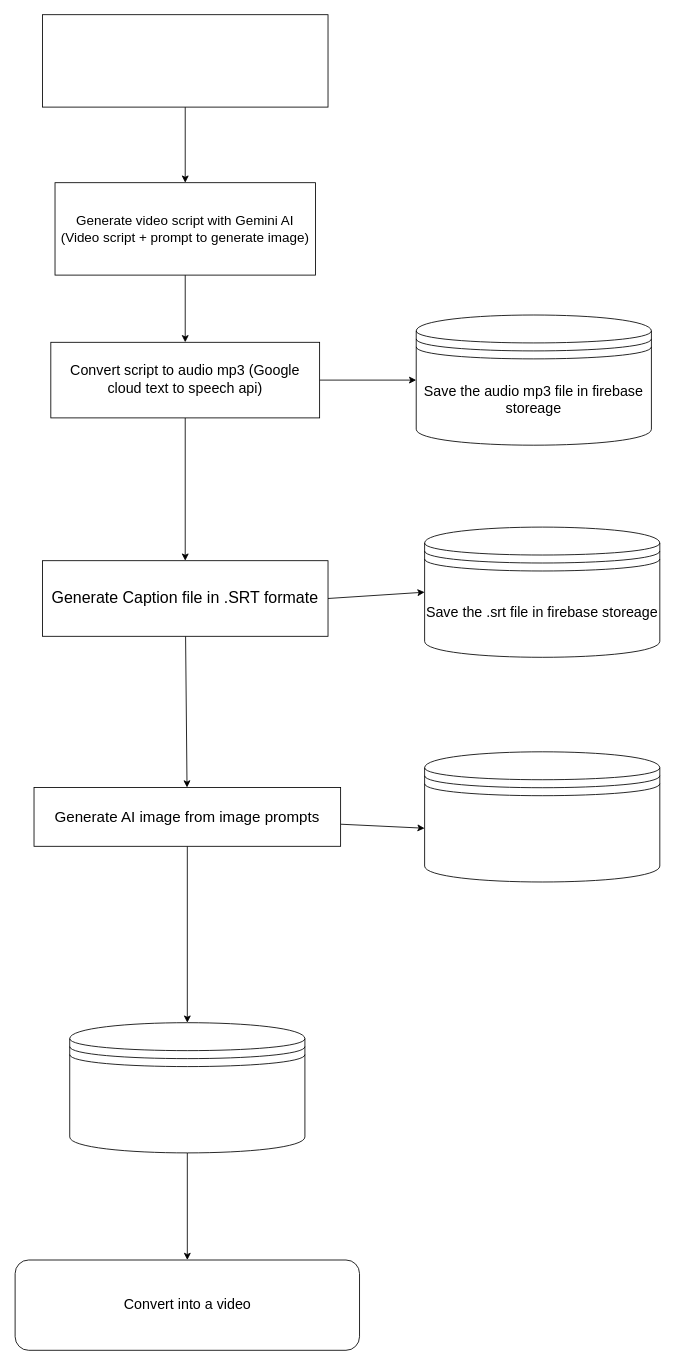
The diagram is 675 pixels wide and 1365 high, and some of its shapes have lost their labels. Here are the shapes that lost their labels. From the top down, the box of each, then its label:
(42, 14, 328, 107): User data {duration:30, imageStple:cartoon, topic:Historical facts}
(424, 751, 660, 882): Save the image in firebase storeage
(69, 1022, 305, 1153): Save all the data block in firebse storage
